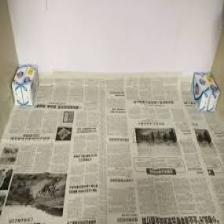paper: (0, 65, 224, 223)
